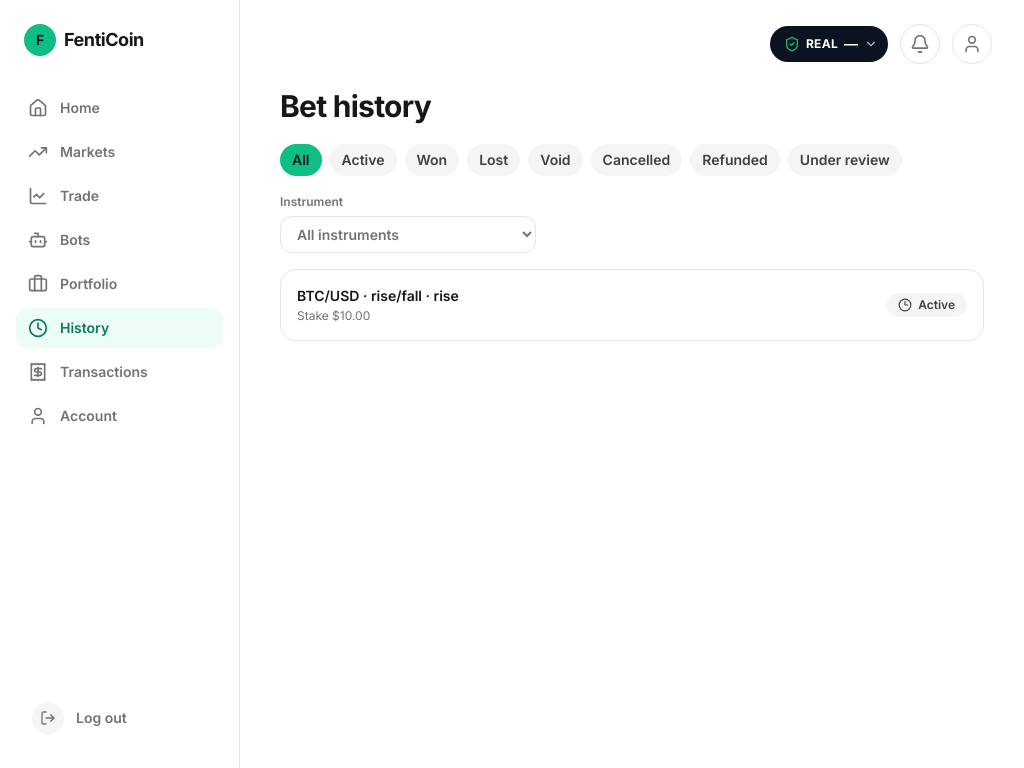
BetHistoryPage › lists bets and opens a detail modal on click
Expected: the element that starts with "Bet history" shows "BTC/USD", [297,286,967,324]
Click the text "BTC/USD · rise/fall · rise" at (378, 296), box [297,286,459,306]
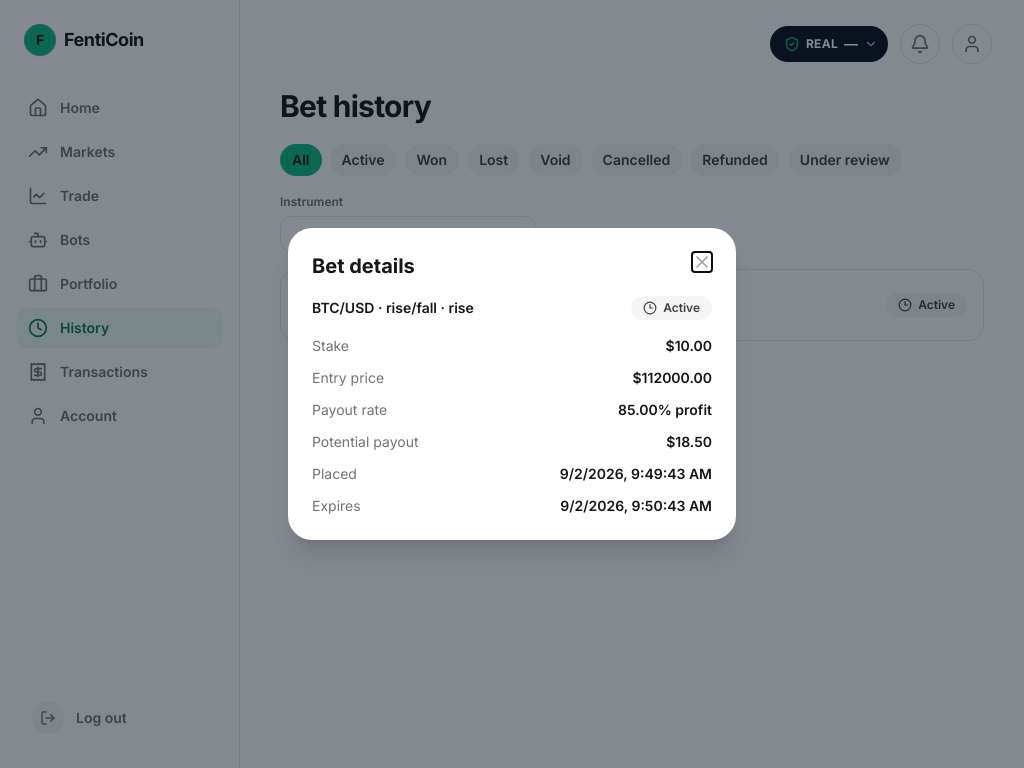
Expected: the text "Entry price" is shown, [312,368,384,388]
